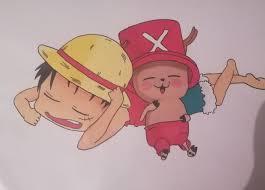chopper: (117, 18, 202, 104)
luffy: (30, 34, 133, 134)
